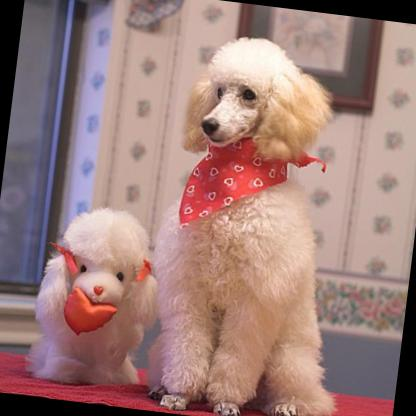miniature_poodle: (138, 24, 380, 416)
